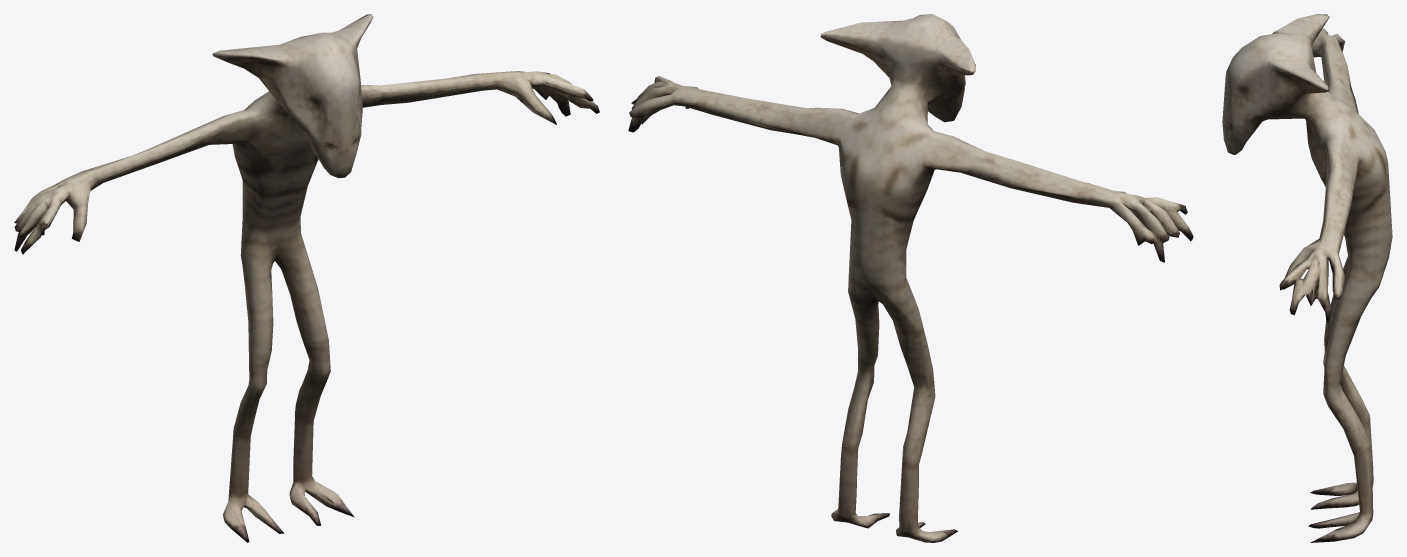
Rendered from hollow_d.glb.
3 views of the same model, side by side, from view 1: azimuth 30°, elevation 25°; view 2: azimuth 150°, elevation 25°; view 3: azimuth 270°, elevation 25° (orthographic). The views are drawn at different scales.
Parts seen in each view (by area): view 1: hollow_d; view 2: hollow_d; view 3: hollow_d.
Part boxes in pixels (x1,y1,x2,y2): hollow_d: (14, 14, 599, 542); hollow_d: (628, 14, 1193, 542); hollow_d: (1222, 14, 1392, 542).
Size of the model in its own units: 1 by 0.8377 by 0.2683.
1 material, 1 textured.
